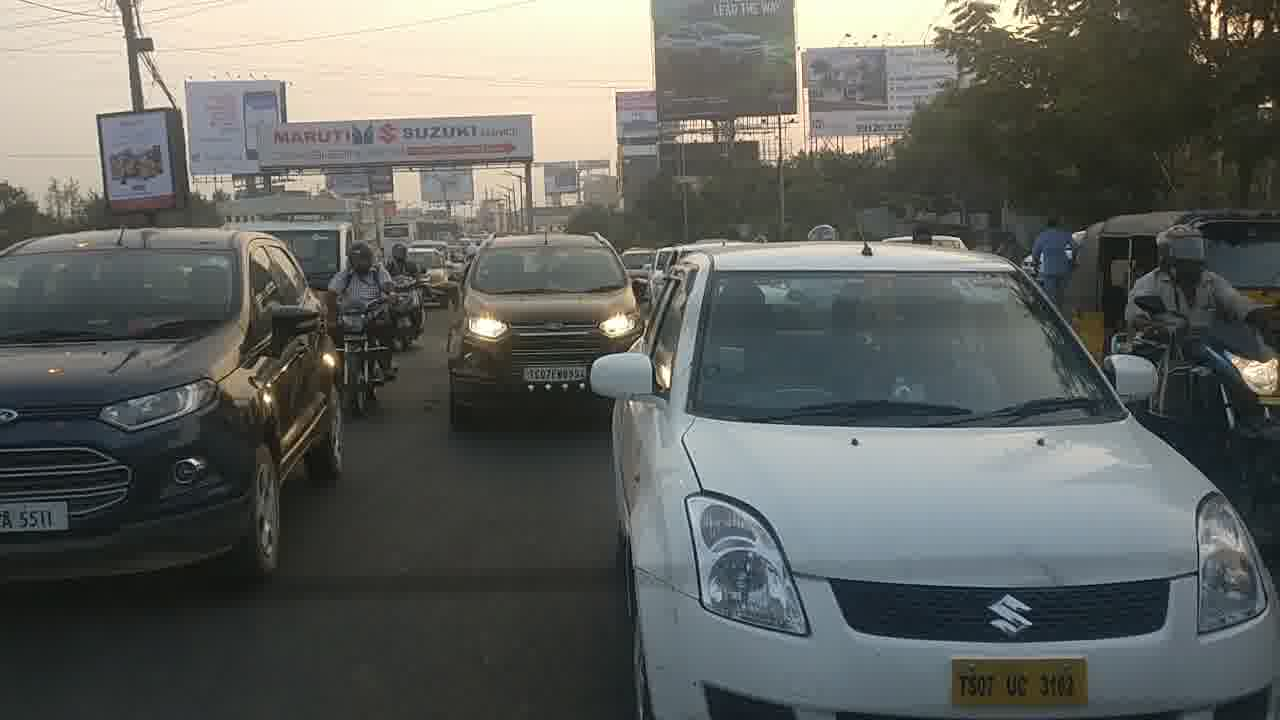swift desire: (616, 262, 1279, 720)
